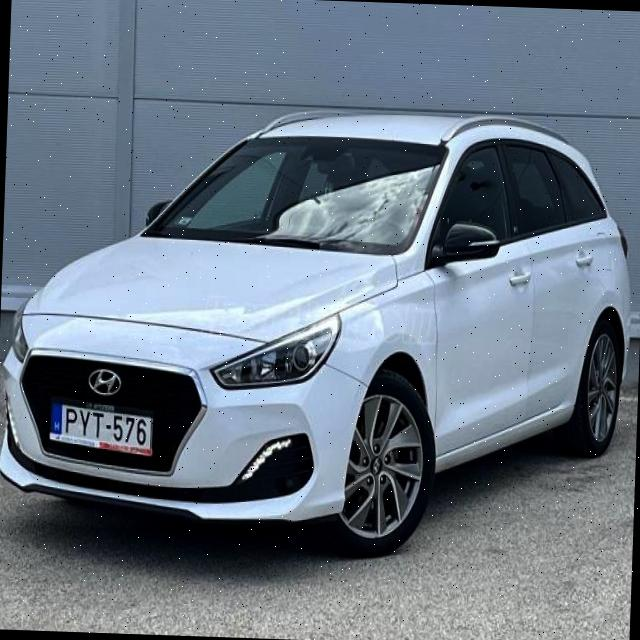licence: (47, 398, 156, 460)
